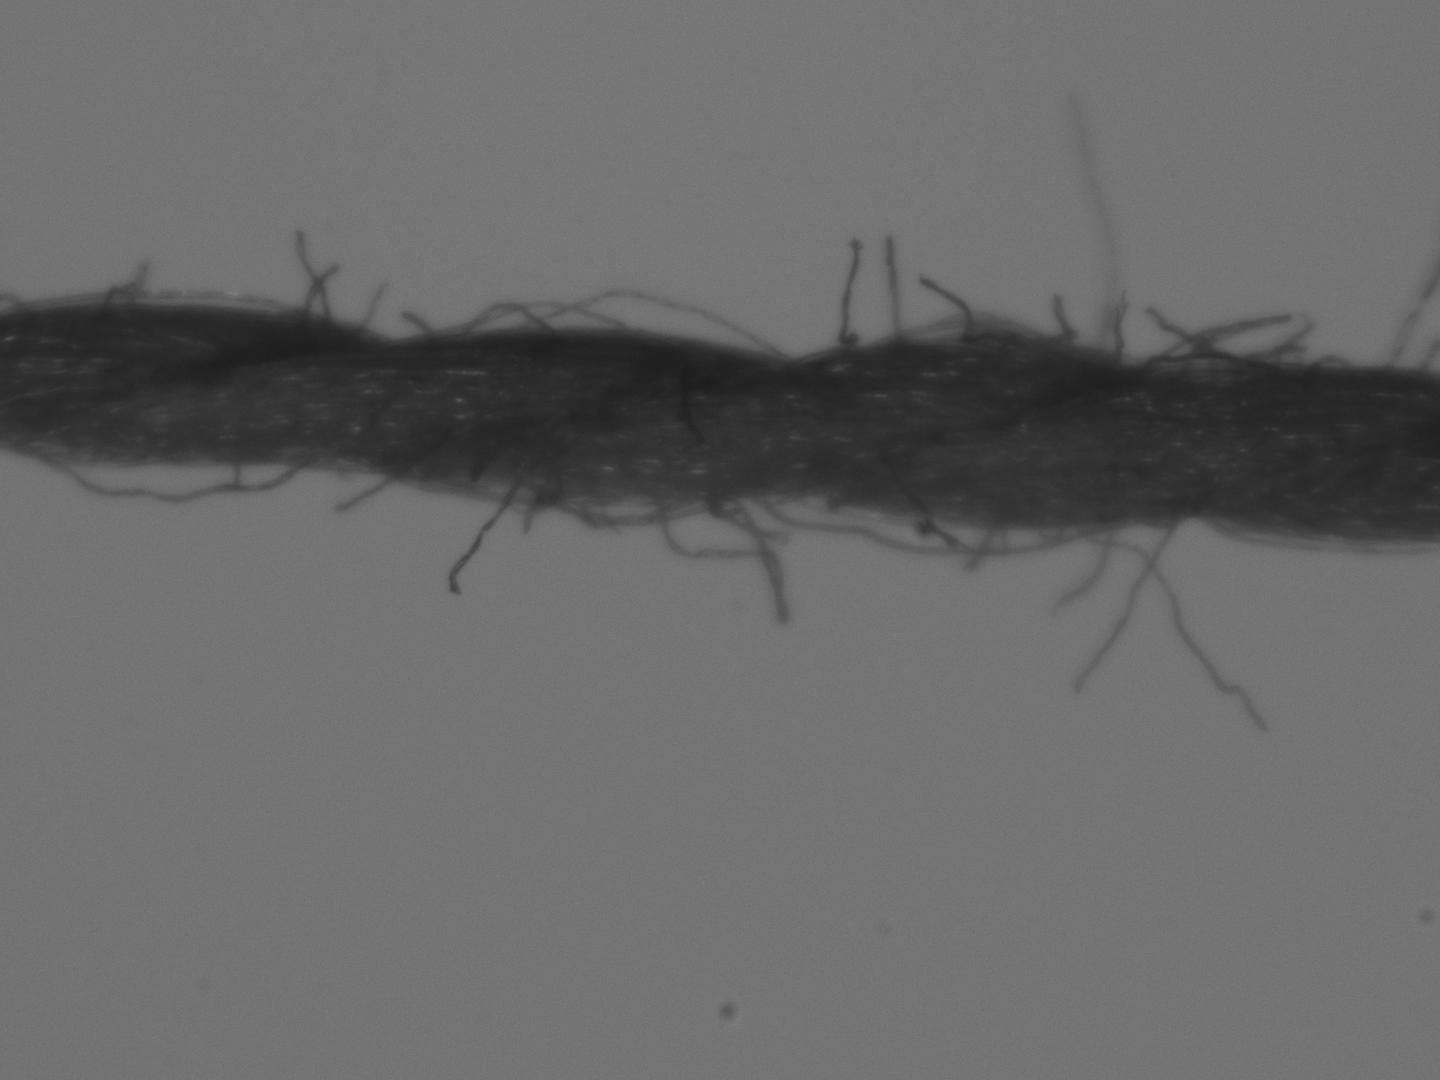loop_fiber: (544, 492, 794, 628), (399, 286, 796, 364), (752, 491, 1109, 564), (7, 450, 319, 506), (1140, 313, 1359, 378), (866, 313, 1082, 351), (96, 253, 155, 305)
protruding_fiber: (1074, 521, 1277, 732), (1070, 515, 1188, 698), (1057, 98, 1112, 357), (446, 473, 527, 600), (1048, 517, 1134, 623), (1387, 267, 1439, 365), (1145, 301, 1217, 358), (294, 223, 336, 319), (922, 271, 977, 340), (836, 226, 863, 353), (881, 229, 908, 341), (298, 260, 344, 318), (351, 275, 392, 337), (325, 479, 391, 515), (1108, 285, 1134, 361), (1048, 287, 1078, 344), (518, 482, 548, 530)
